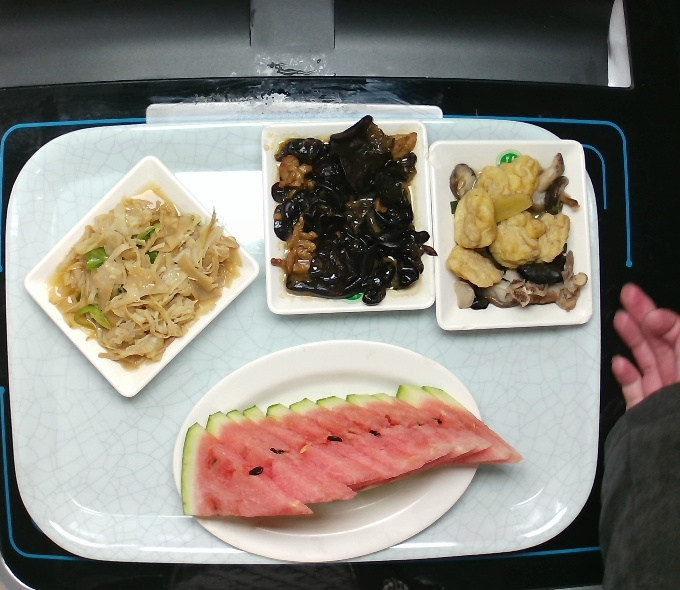wcq-LuSun: (58, 188, 241, 376)
wcq-MuErChaoRou: (266, 115, 446, 313)
wcq-XiGua: (171, 384, 524, 529)
wcq-YouPaoPaiGu: (441, 147, 592, 324)
